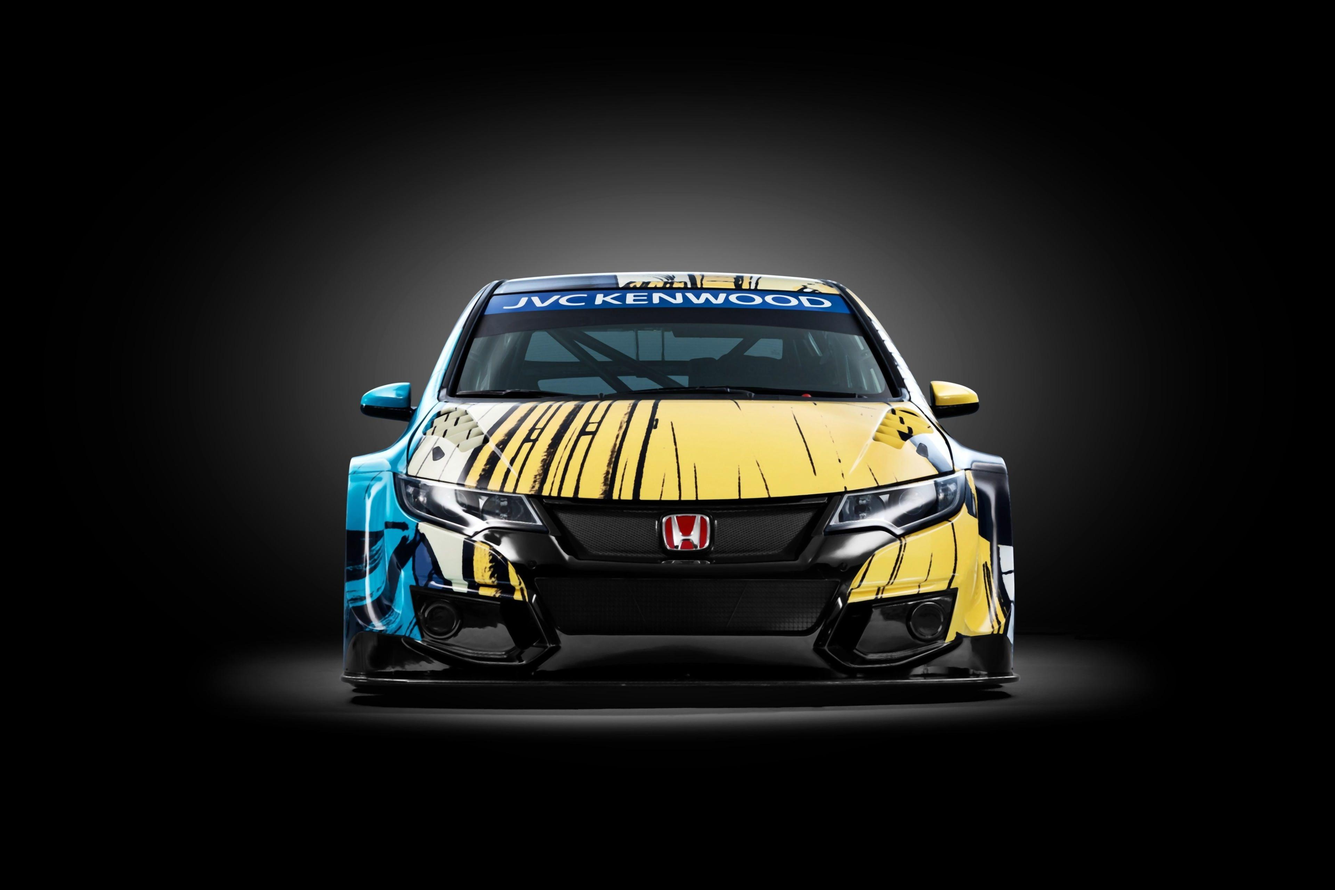Car hood: (398, 393, 964, 507)
Front bumper: (332, 449, 1021, 700)
Headlight - -L-: (814, 464, 976, 545)
Headlight - -R-: (388, 456, 554, 542)
Side mirror - -L-: (916, 367, 991, 428)
Side mirror - -R-: (346, 372, 430, 436)
